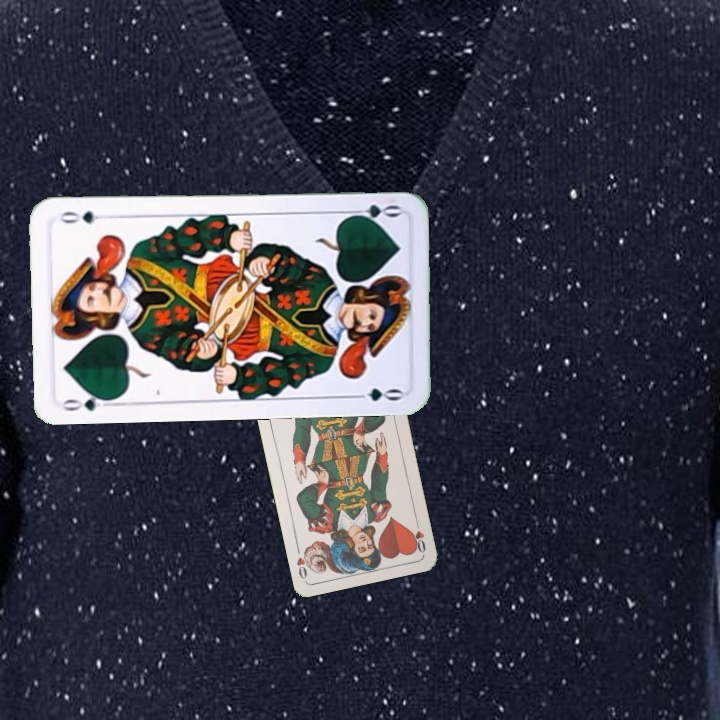GO: (58, 388, 117, 414), (343, 200, 402, 222)
HO: (408, 515, 428, 555)
